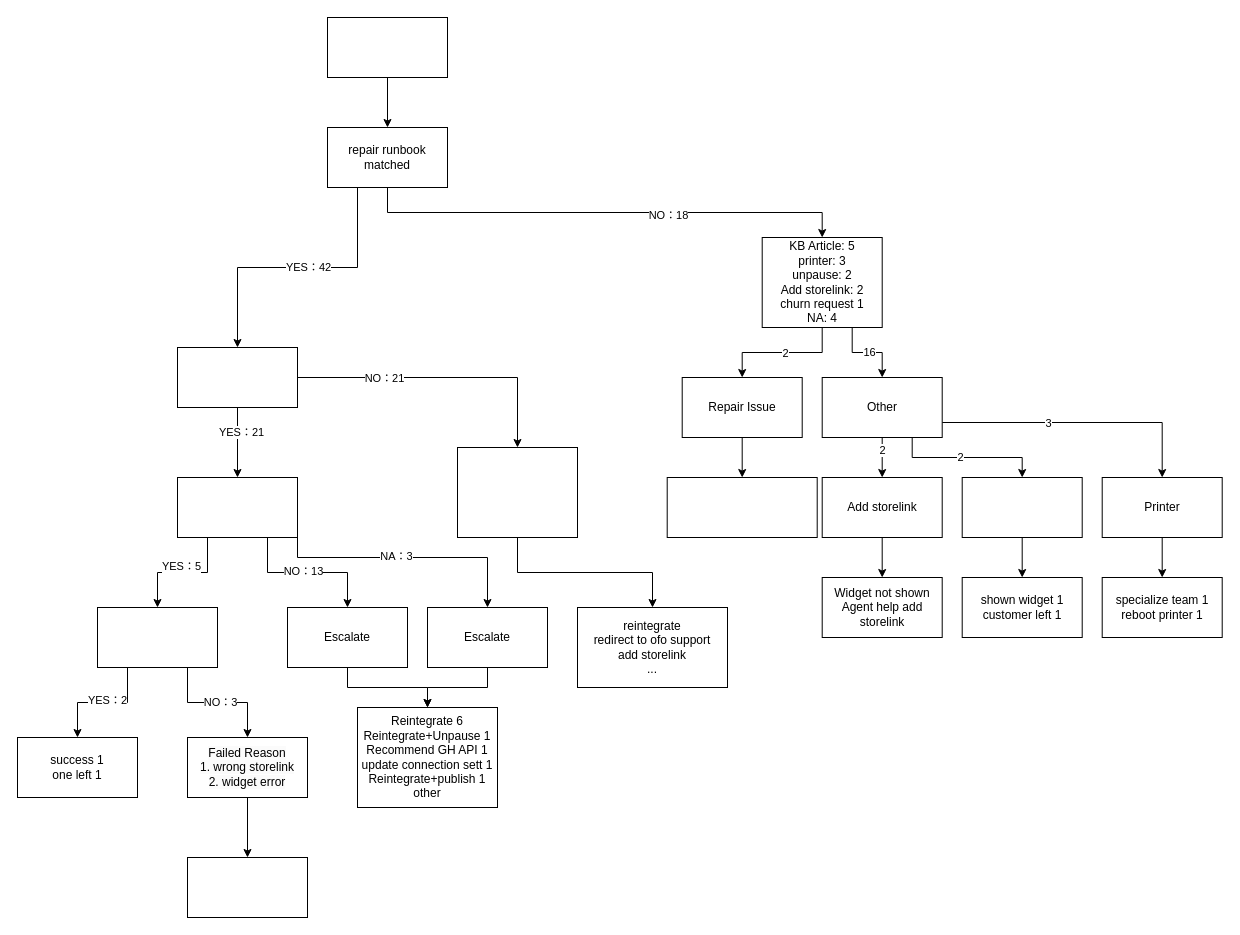
The diagram is 1240 pixels wide and 935 high, and some of its shapes have lost their labels. Here are the shapes that lost their labels. From the top down, the box of each, then its label:
(326, 16, 448, 78): LLM-Integration Issue Type 60
(176, 346, 298, 408): Is repair issue
(176, 476, 298, 538): Repairable
(456, 446, 578, 538): Add storelink: 4 order: 5 menu publish: 4 menu issue: 2 unpause 2 86 item 1
(666, 476, 817, 538): Reintegrate 1 Escalate specialize team 1
(961, 476, 1082, 538): Unpause
(96, 606, 218, 668): Widget Success
(186, 856, 308, 918): Re-integrate:2 Delete creds + reintegrate: 1
